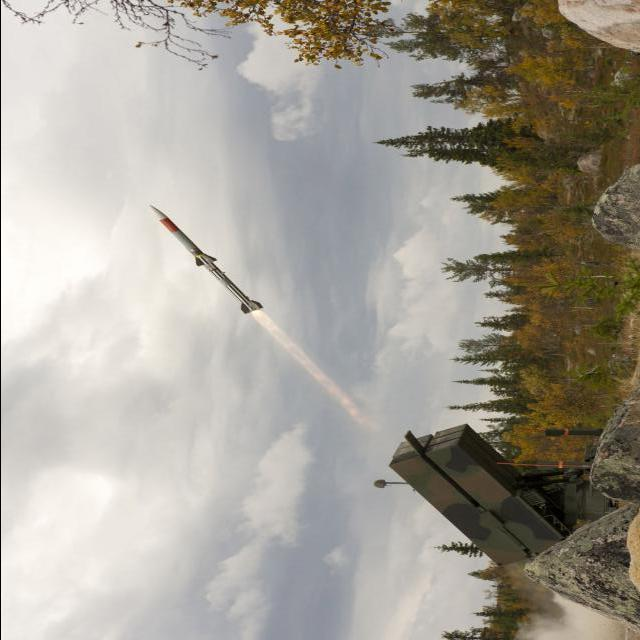missile: (133, 206, 275, 321)
